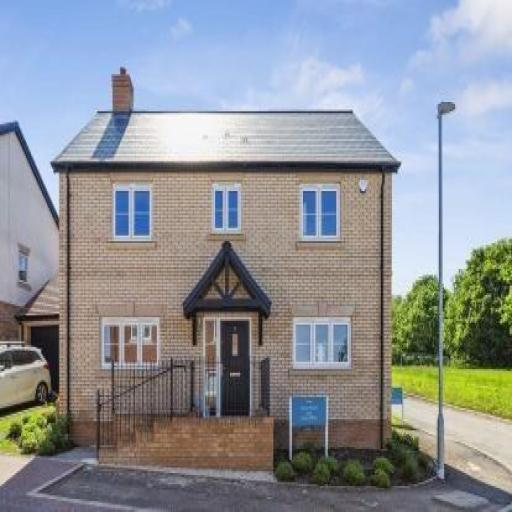door: (217, 325, 257, 421)
